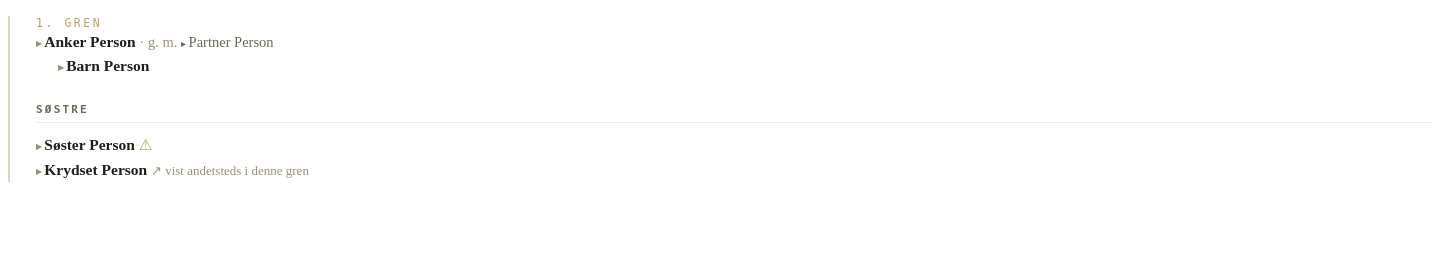
Test: klik på et navn folder en boks ud med hentet narrativ; klik igen folder den sammen
Click the text "Anker Person": (90,42) [44, 33, 136, 50]
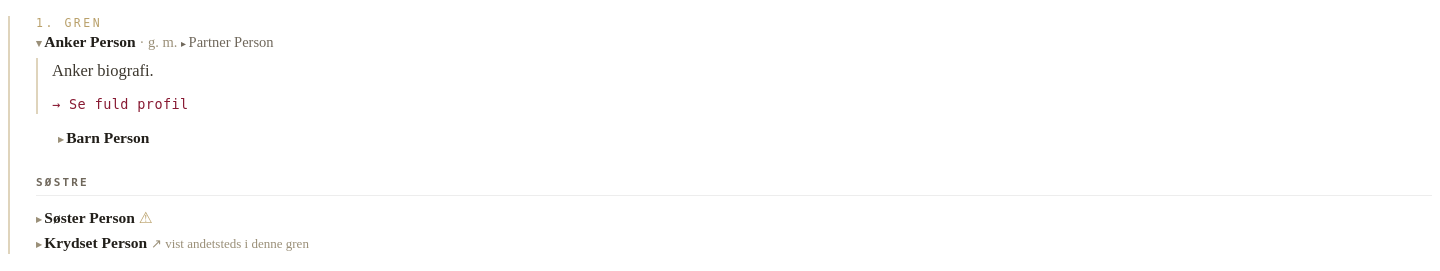
Expected: the text "Anker biografi." is shown, [52, 61, 154, 80]
Click the text "Anker Person": (90,42) [44, 33, 136, 50]
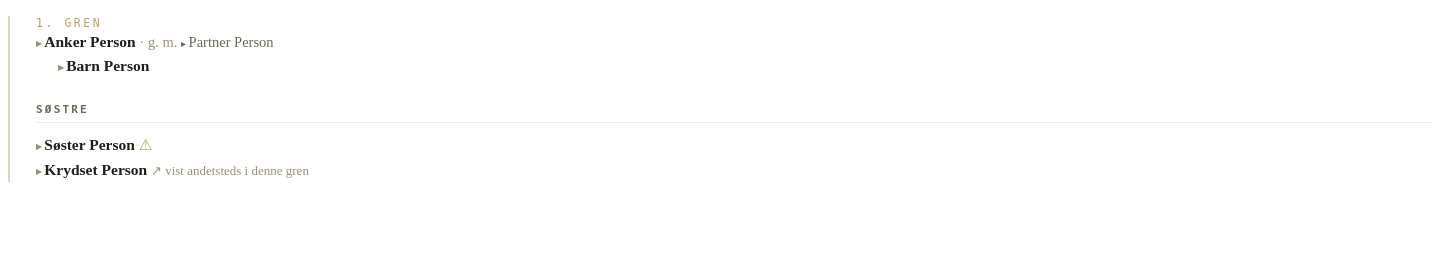
Expected: the text "Anker biografi." is gone
